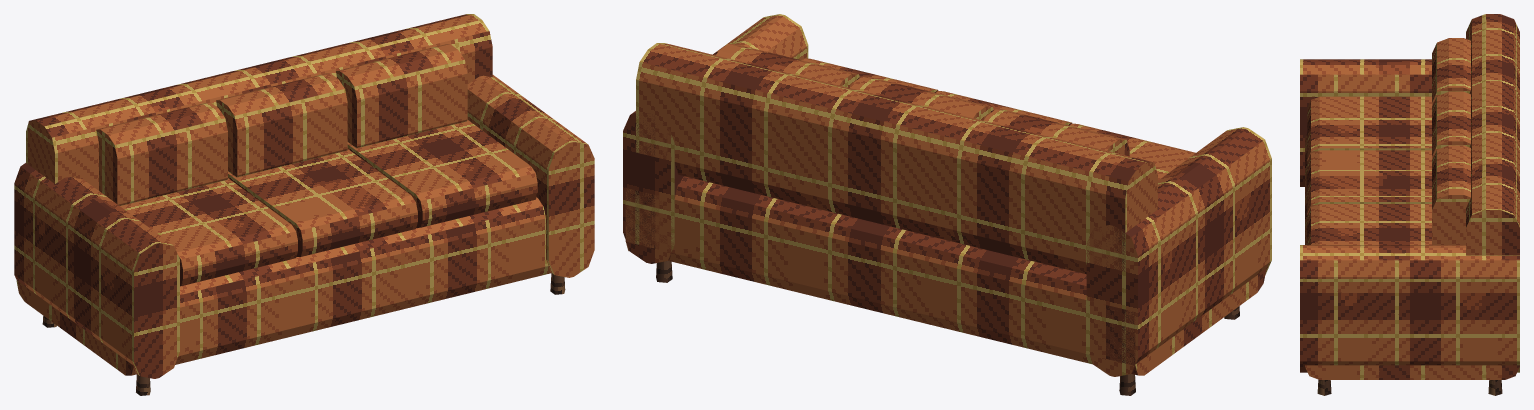
Rendered from RES_Sofa_Plaid.obj.
The picture shows the model from 3 angles, left to right: view 1: azimuth 30°, elevation 25°; view 2: azimuth 150°, elevation 25°; view 3: azimuth 270°, elevation 25°; orthographic projection. The views are drawn at different scales.
Visible parts, largest first — view 1: RES_Sofa_Plaid_Mesh_M_Res_FabricPlaid, RES_Sofa_Plaid_Mesh_M_Furn_WoodDark; view 2: RES_Sofa_Plaid_Mesh_M_Res_FabricPlaid, RES_Sofa_Plaid_Mesh_M_Furn_WoodDark; view 3: RES_Sofa_Plaid_Mesh_M_Res_FabricPlaid, RES_Sofa_Plaid_Mesh_M_Furn_WoodDark.
Boxes of the visible parts, <box> form: RES_Sofa_Plaid_Mesh_M_Res_FabricPlaid: <box>14,14,594,378</box>; RES_Sofa_Plaid_Mesh_M_Furn_WoodDark: <box>42,273,565,395</box>; RES_Sofa_Plaid_Mesh_M_Res_FabricPlaid: <box>623,14,1271,376</box>; RES_Sofa_Plaid_Mesh_M_Furn_WoodDark: <box>656,261,1239,395</box>; RES_Sofa_Plaid_Mesh_M_Res_FabricPlaid: <box>1300,14,1519,379</box>; RES_Sofa_Plaid_Mesh_M_Furn_WoodDark: <box>1317,379,1502,395</box>.
Bounding box in the file's own units: 2 × 0.85 × 0.9.
Materials: 2 (2 with a texture image).
